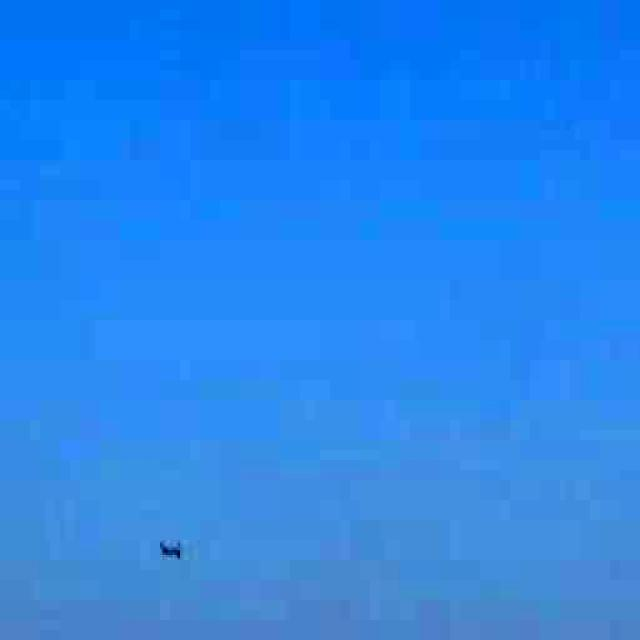bird: (138, 526, 200, 576)
